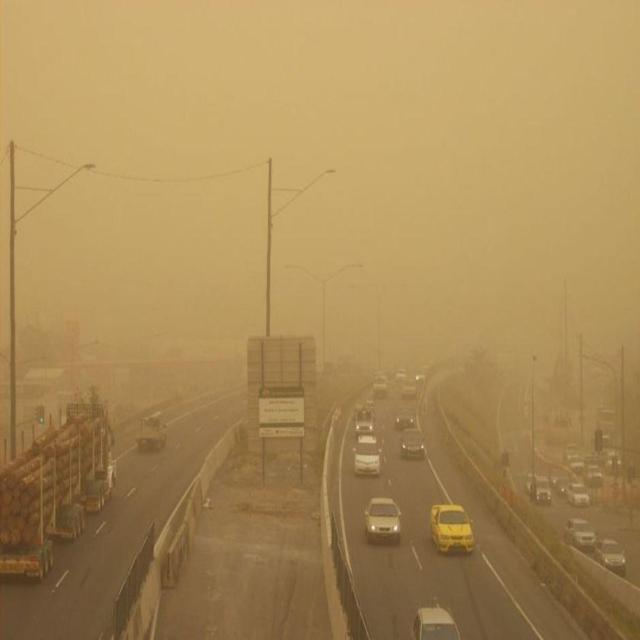Car: (430, 501, 474, 556), (362, 492, 403, 545), (409, 607, 459, 640), (565, 516, 599, 554), (354, 432, 382, 477), (596, 537, 627, 572), (400, 430, 426, 468), (571, 481, 591, 506), (556, 479, 578, 501), (586, 467, 607, 490), (534, 477, 550, 507), (549, 461, 565, 490), (604, 452, 622, 476), (396, 407, 414, 430), (570, 457, 588, 478), (525, 472, 538, 497), (402, 381, 417, 399), (396, 369, 406, 384)
Truck: (0, 390, 116, 578), (135, 404, 173, 457), (353, 396, 377, 434)
Van: (371, 373, 386, 400)
